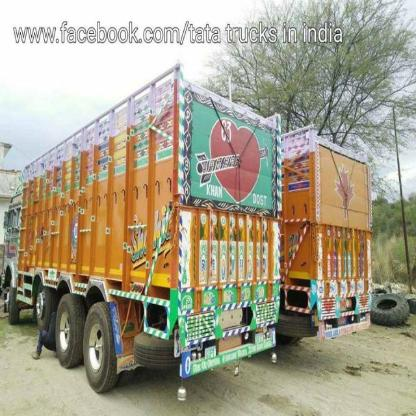truck: (10, 86, 278, 382), (270, 117, 376, 349)
